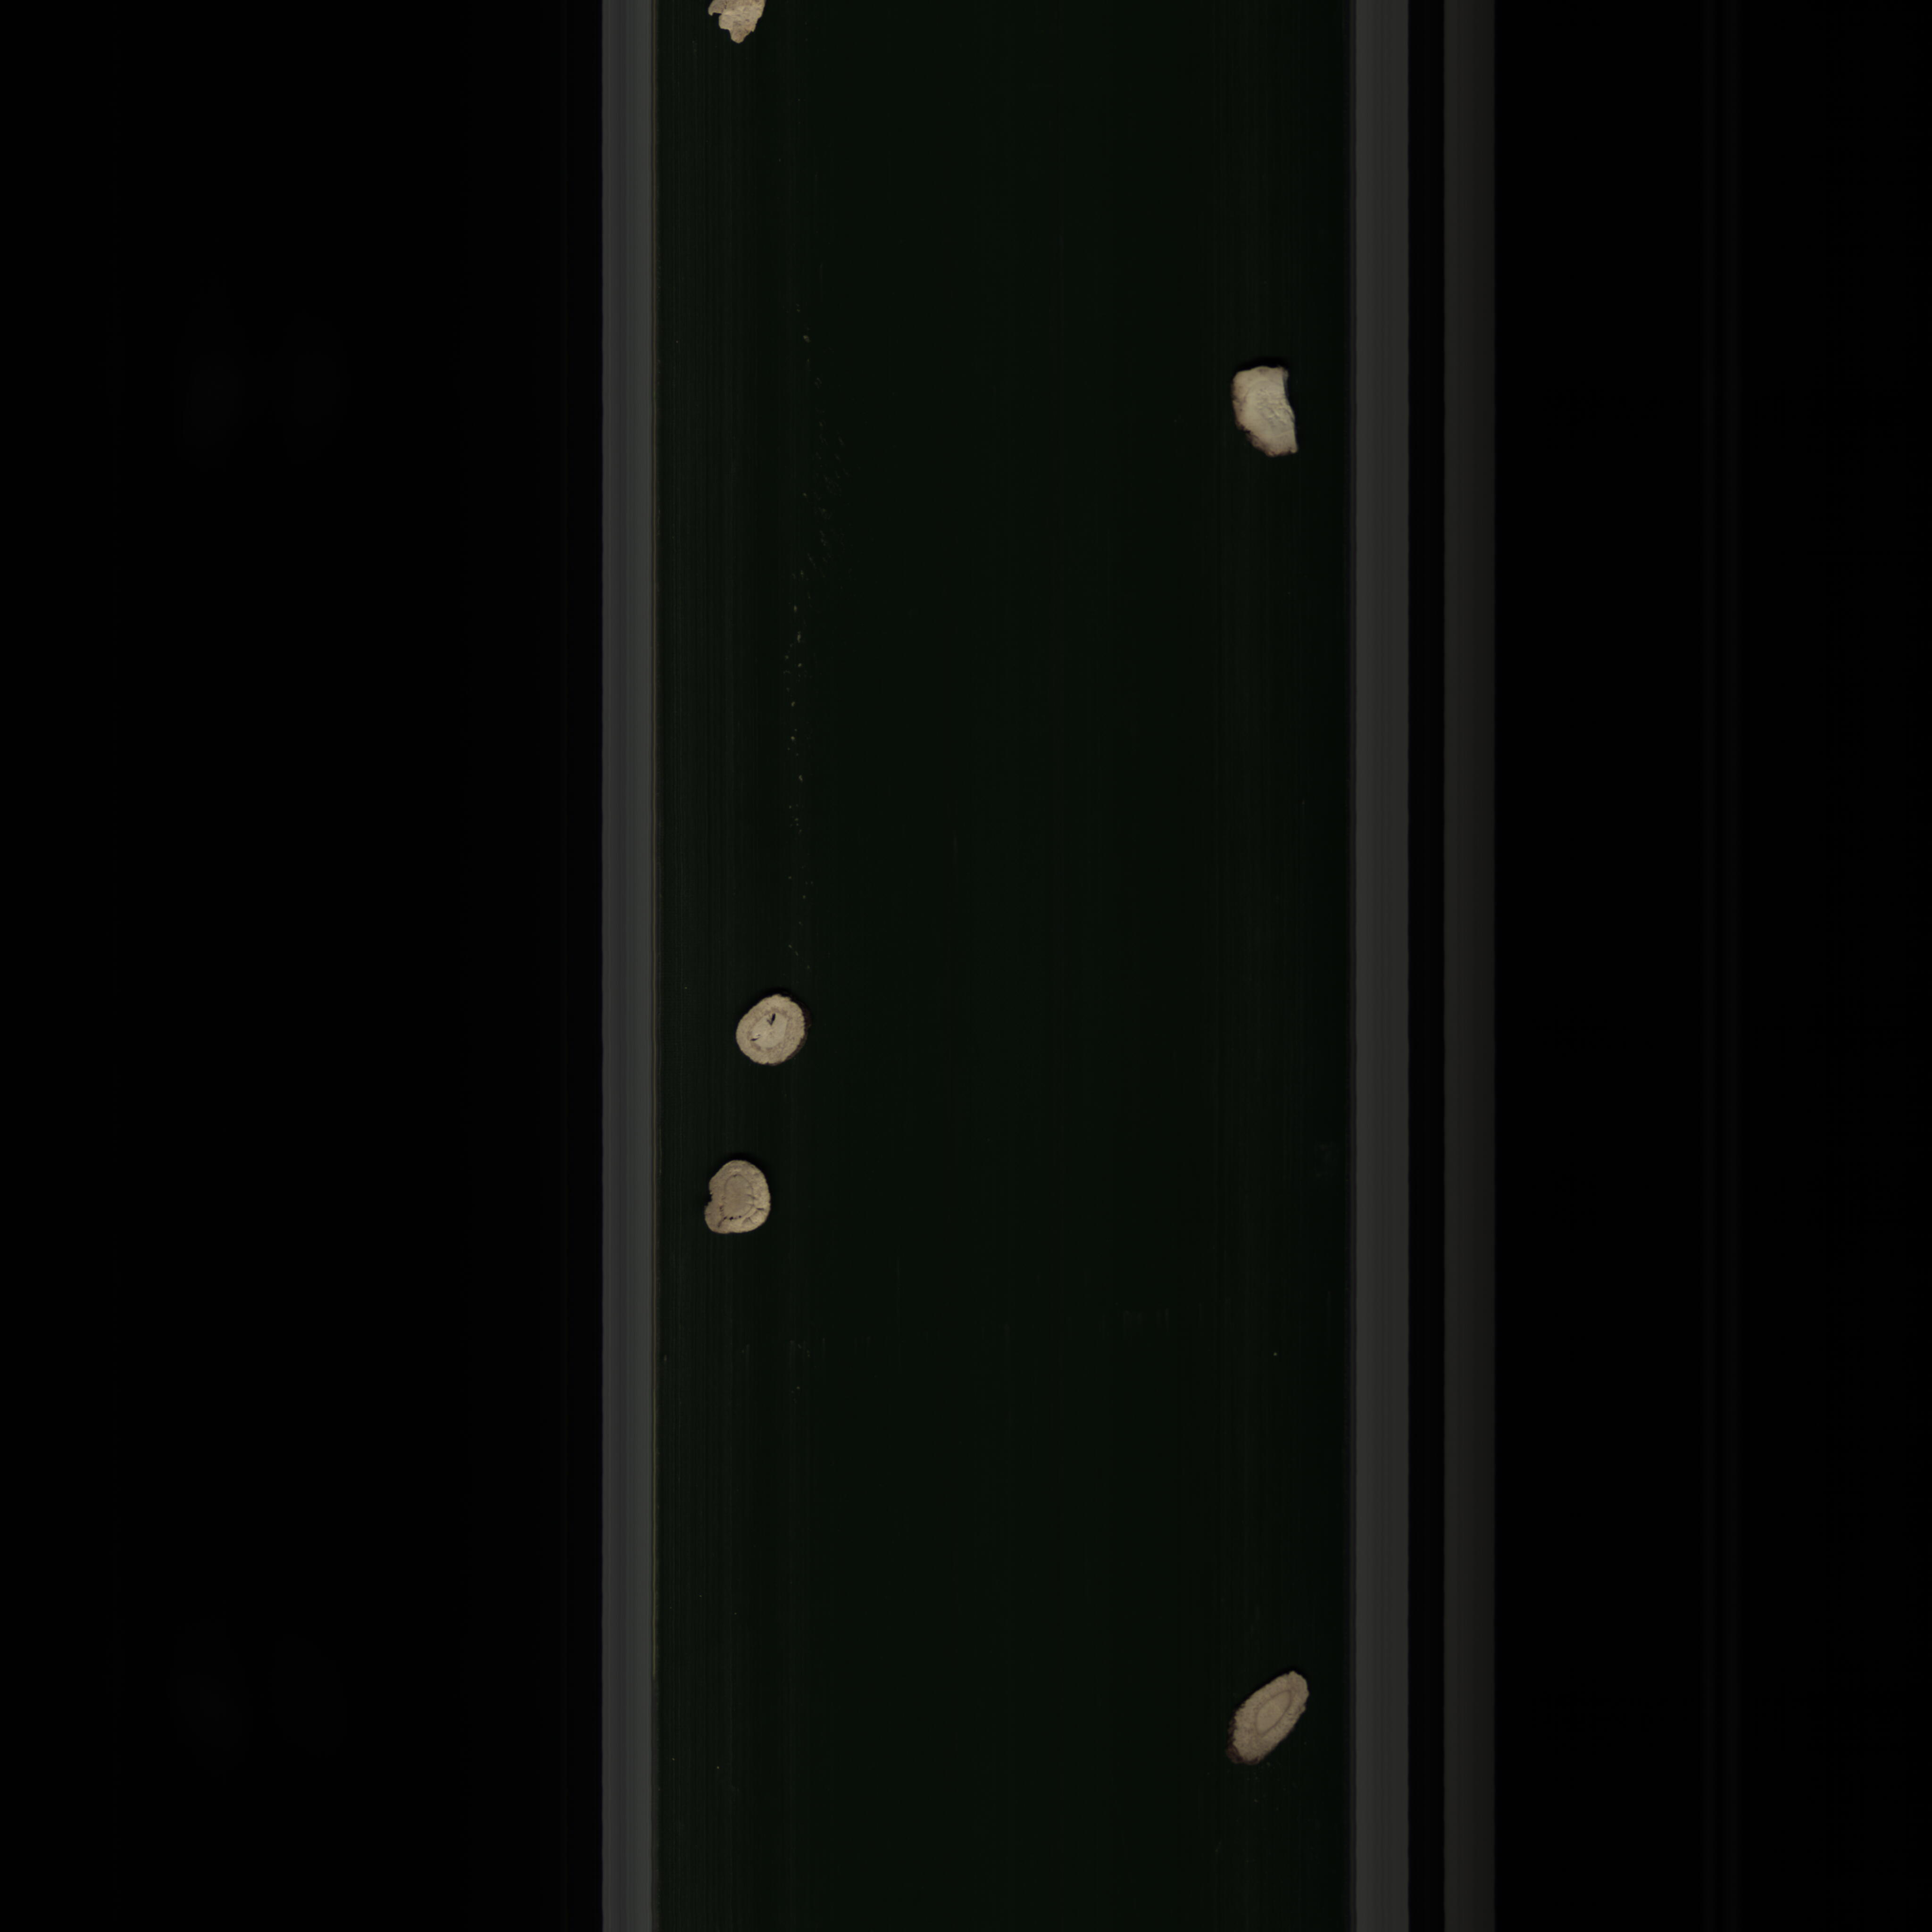debris: (1228, 361, 1306, 462)
distortion: (1215, 1670, 1320, 1776)
hole: (734, 991, 814, 1070)
